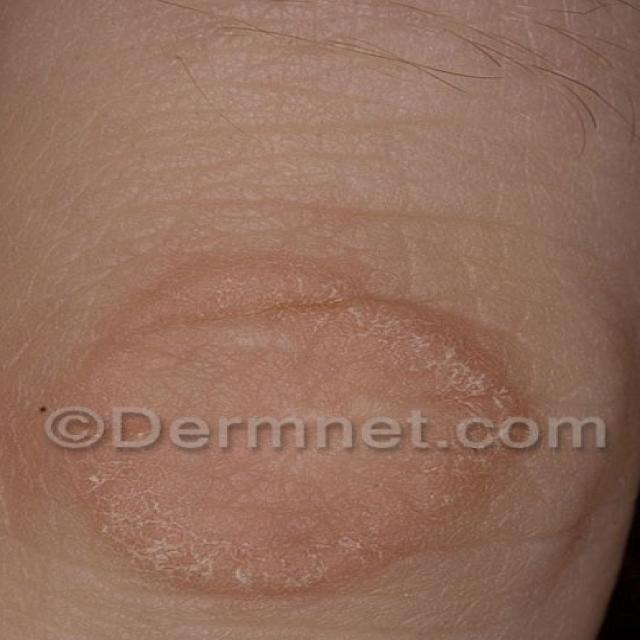Warts: (24, 259, 595, 622)
